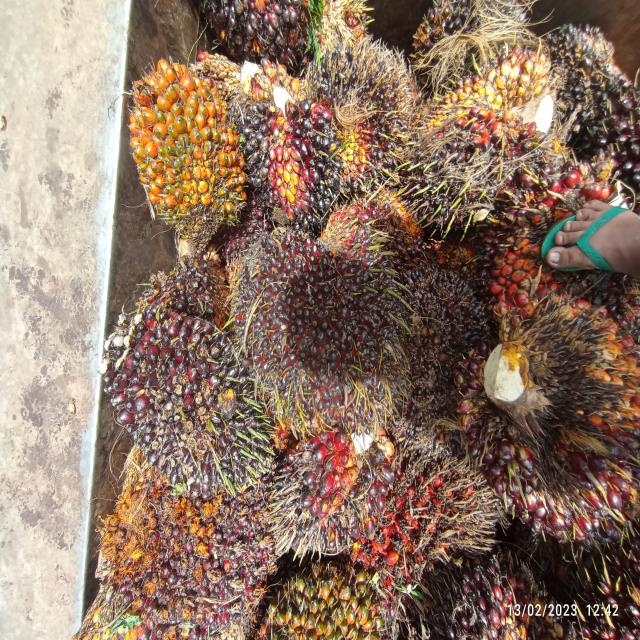fraksi 00: (386, 32, 582, 260), (390, 238, 508, 443), (302, 4, 415, 205), (234, 70, 336, 246)
fraksi 1: (499, 228, 640, 552), (101, 284, 271, 516), (227, 203, 398, 418), (98, 477, 279, 640), (273, 404, 404, 561)
fraksi 4: (108, 55, 259, 259), (357, 455, 480, 595)
